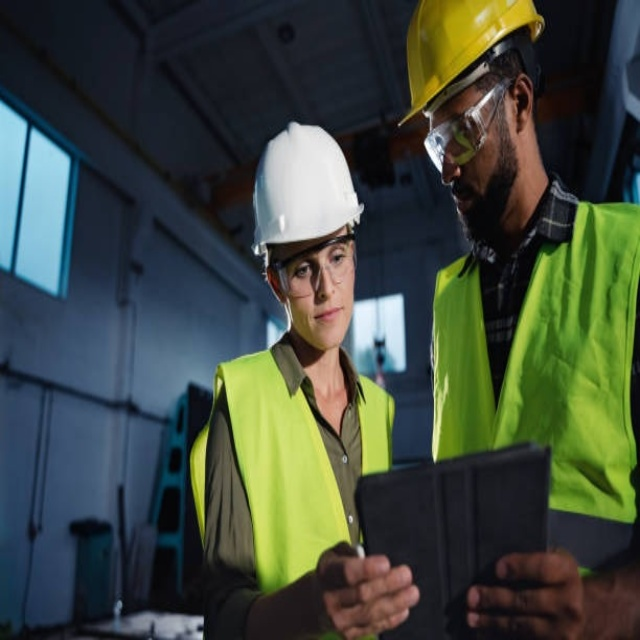Gafas: (421, 78, 510, 181), (274, 235, 357, 301)
Sin_guantes: (466, 547, 585, 640), (314, 543, 419, 640)
Sin_mascara: (304, 300, 349, 340), (442, 179, 480, 223)
